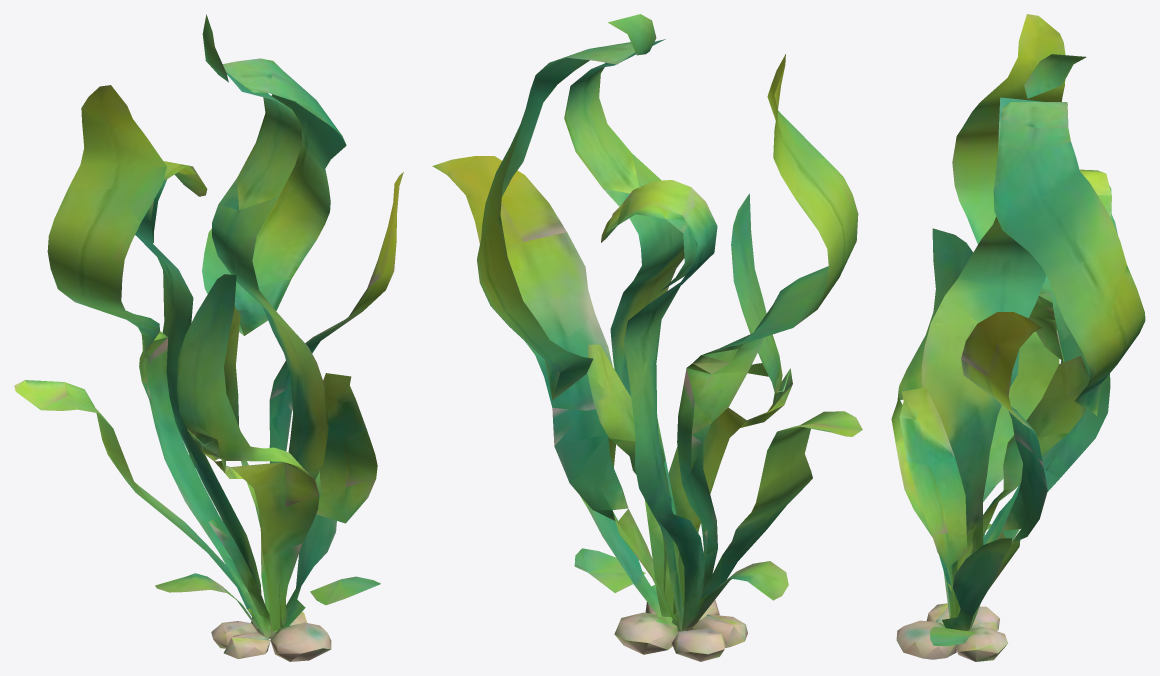
Rendered from alga_1_800.glb.
3 renders of one model, left to right at view 1: azimuth 30°, elevation 25°; view 2: azimuth 150°, elevation 25°; view 3: azimuth 270°, elevation 25°, orthographic. The views are drawn at different scales.
Parts seen in each view (by area): view 1: alga_1_malla; view 2: alga_1_malla; view 3: alga_1_malla.
Boxes of the visible parts, x1,y1,x2,y2 form: alga_1_malla: (14,14,403,661); alga_1_malla: (432,14,862,661); alga_1_malla: (891,14,1145,661).
Size of the model in its own units: 0.2851 by 0.4233 by 0.1655.
Materials: 1 (1 with a texture image).
